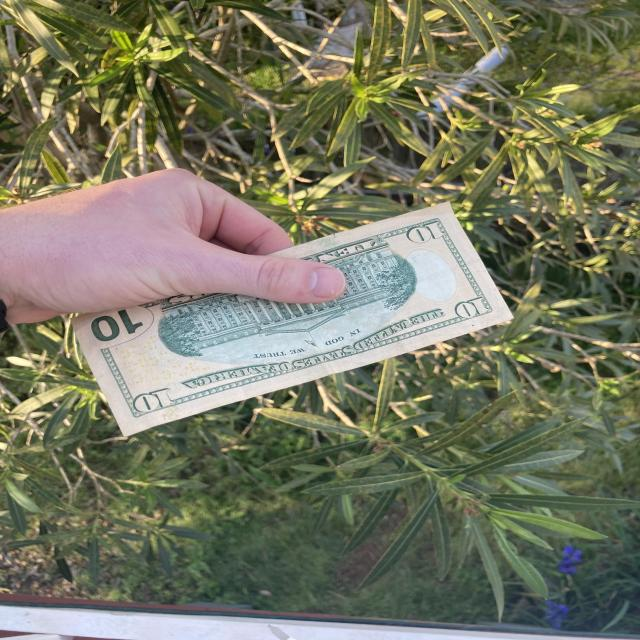ten: (67, 191, 514, 442)
